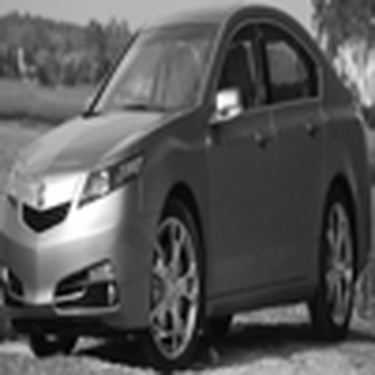car: (1, 4, 372, 369)
